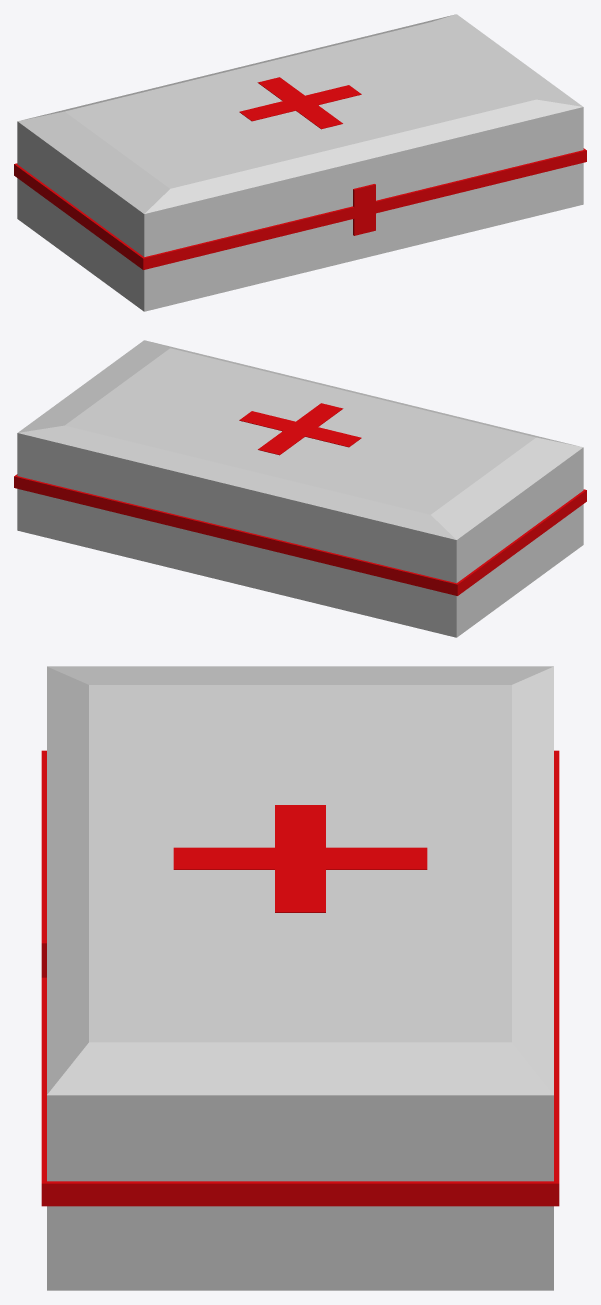
The model's file is Аптечка.fbx.
3 renders of one model, top to bottom at view 1: azimuth 30°, elevation 25°; view 2: azimuth 150°, elevation 25°; view 3: azimuth 270°, elevation 25°, orthographic. The views are drawn at different scales.
Parts seen in each view (by area): view 1: Cube, Cube.003, Cube.002; view 2: Cube, Cube.003, Cube.002; view 3: Cube, Cube.003, Cube.002.
Boxes of the visible parts, x1=… form: Cube: x1=17, y1=14, x2=583, y2=311; Cube.003: x1=14, y1=148, x2=586, y2=269; Cube.002: x1=239, y1=77, x2=361, y2=129; Cube: x1=17, y1=340, x2=583, y2=637; Cube.003: x1=14, y1=474, x2=586, y2=595; Cube.002: x1=239, y1=403, x2=361, y2=455; Cube: x1=47, y1=666, x2=553, y2=1290; Cube.003: x1=41, y1=750, x2=559, y2=1206; Cube.002: x1=173, y1=805, x2=427, y2=912.
Size of the model in its own units: 202 by 51.1 by 102.
